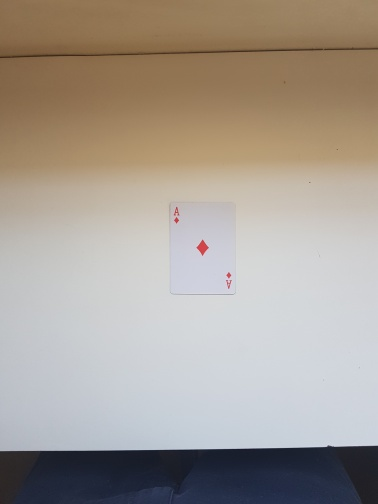ace: (167, 200, 235, 297)
